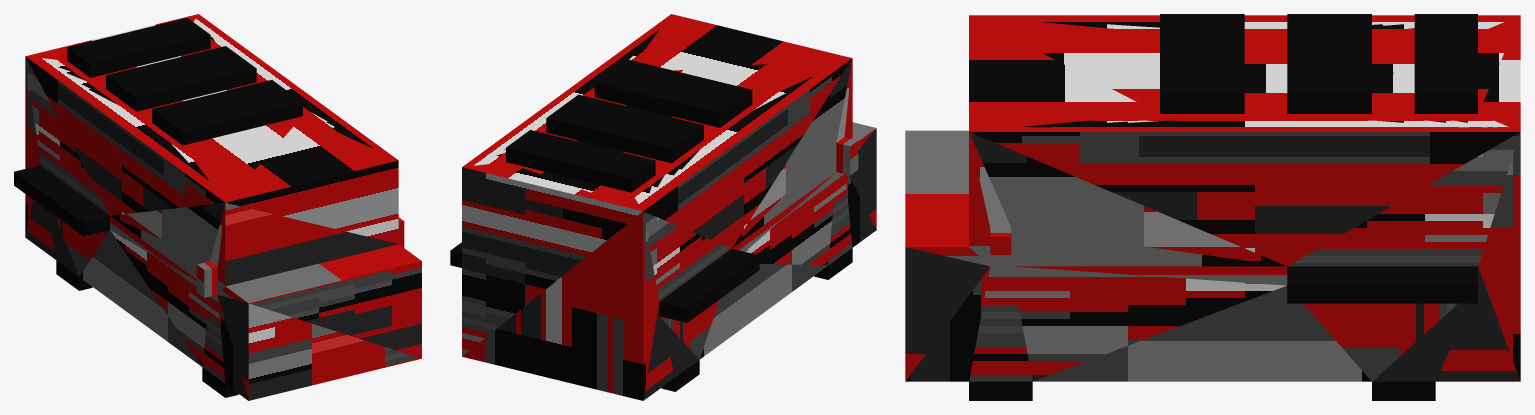
Rendered from veh_lunch1.fbx.
3 views of the same model, side by side, from view 1: azimuth 30°, elevation 25°; view 2: azimuth 150°, elevation 25°; view 3: azimuth 270°, elevation 25° (orthographic). The views are drawn at different scales.
Parts seen in each view (by area): view 1: veh_lunch1; view 2: veh_lunch1; view 3: veh_lunch1.
Part boxes in pixels (left/top/right/bottom): veh_lunch1: left=14, top=14, right=421, bottom=400; veh_lunch1: left=450, top=14, right=876, bottom=400; veh_lunch1: left=905, top=14, right=1520, bottom=400.
Size of the model in its own units: 1.7 by 2.9 by 1.5.
